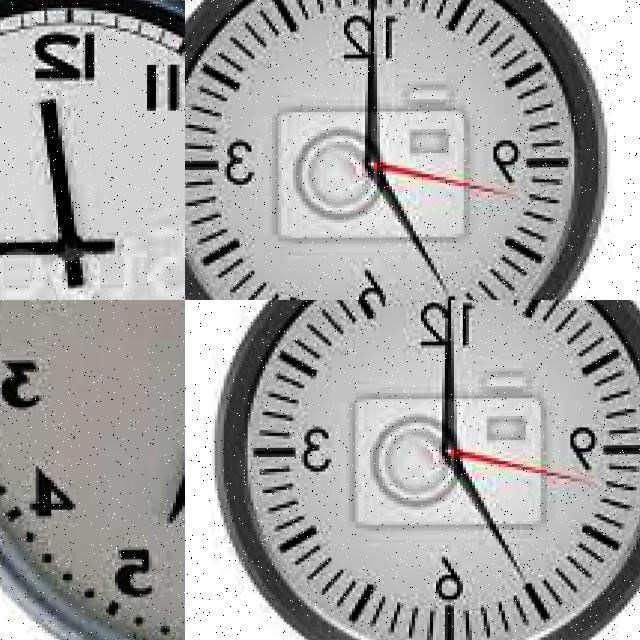Clocks-images: (216, 301, 640, 640), (186, 1, 612, 301), (1, 301, 186, 640), (1, 1, 186, 301)
